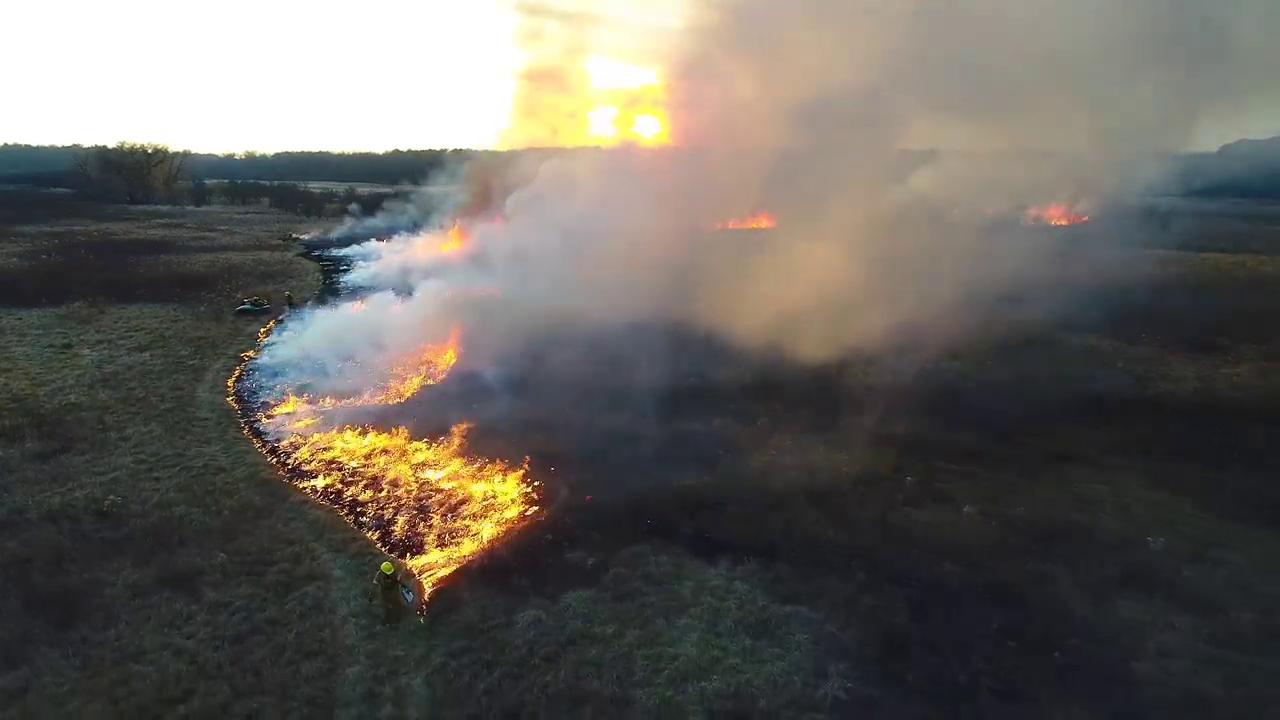forest_fire: (227, 320, 541, 609), (1024, 203, 1088, 225), (714, 212, 776, 230), (439, 222, 466, 256)
